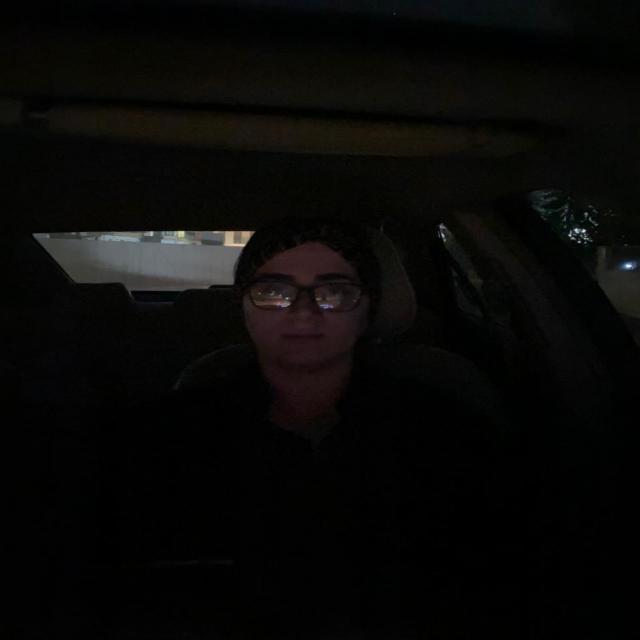person: (229, 219, 380, 383)
